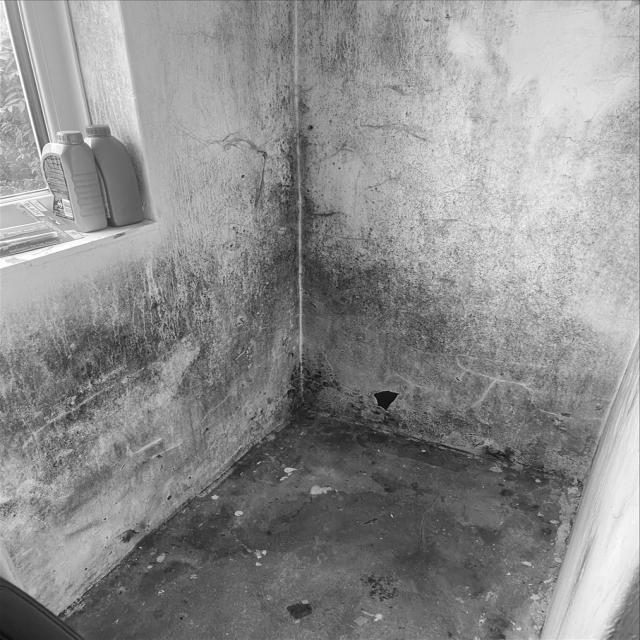stain marks: (0, 3, 297, 607), (294, 0, 640, 466)
